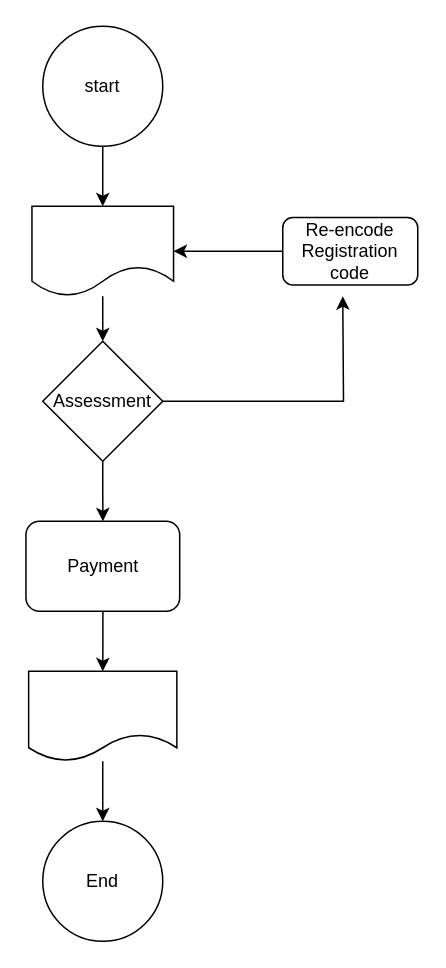
The diagram is 446 pixels wide and 968 high, and some of its shapes have lost their labels. The centre of each missing label's shape, as x and y in pixels:
"Online Registration" goes at point (102, 250).
"Registration Form" goes at point (102, 715).
